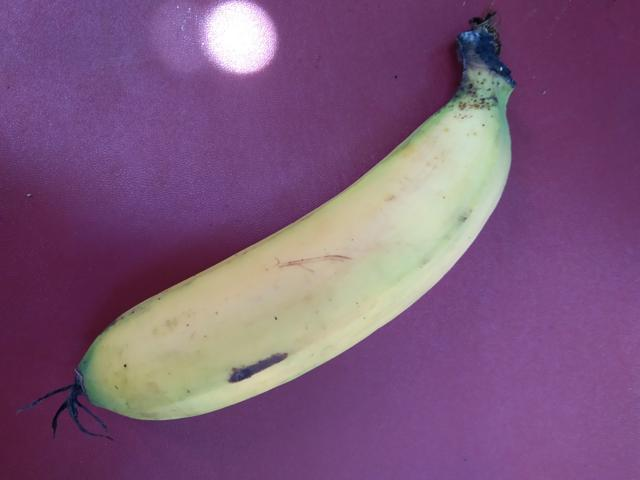ripe: (53, 90, 518, 474)
